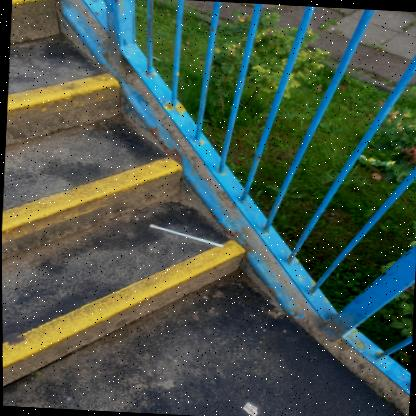Plastic: (148, 223, 222, 247)
Waste: (241, 400, 256, 415)
